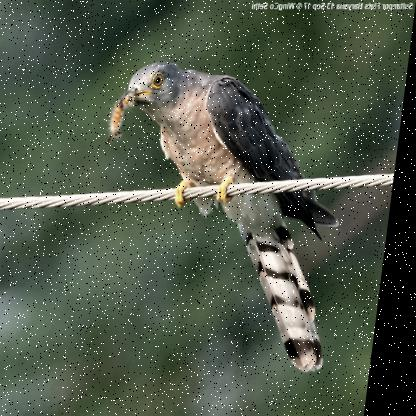Burung: (89, 62, 364, 372)
